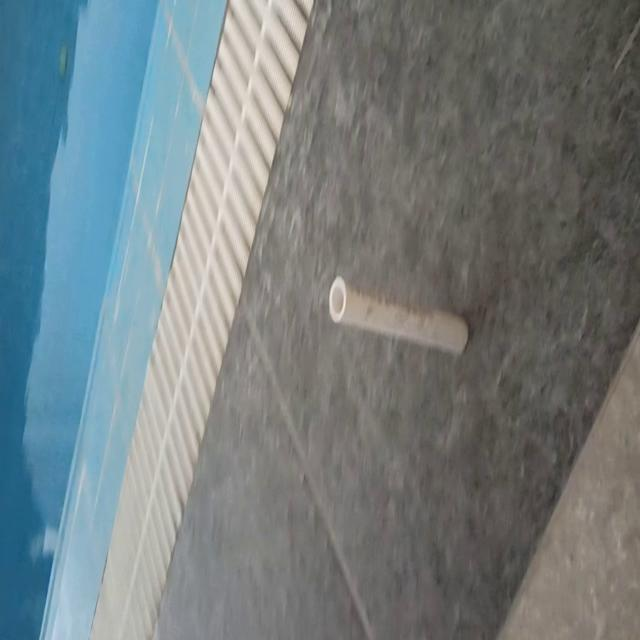Cube: (327, 274, 469, 357)
